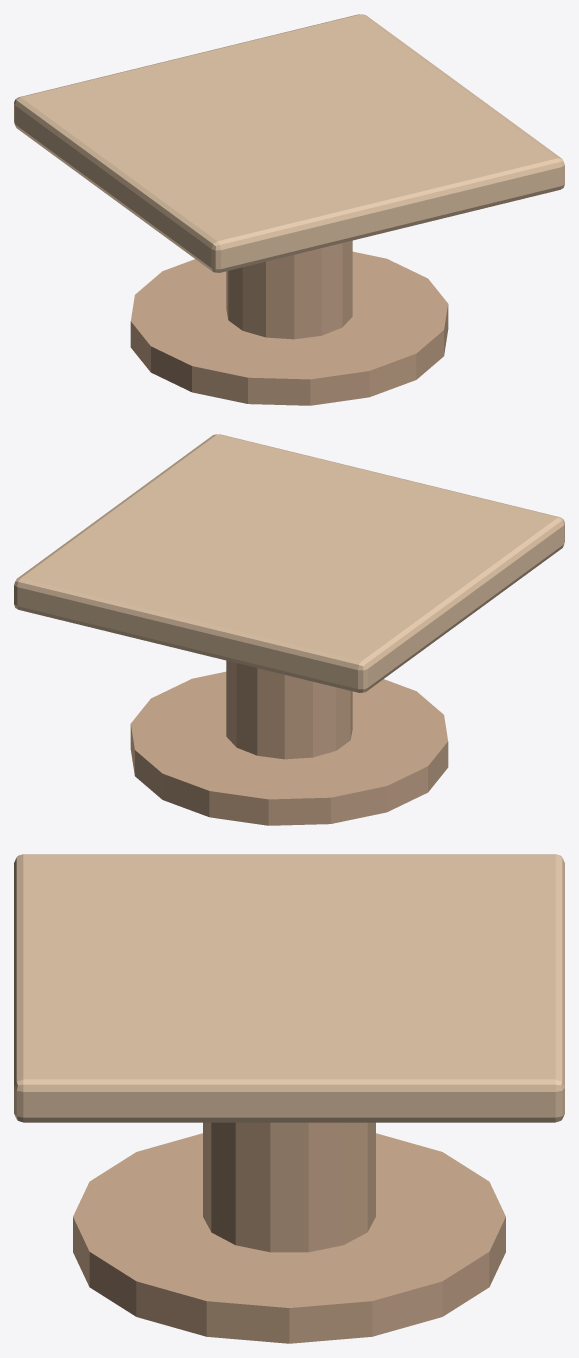
Rendered from kit_table.glb.
3 renders of one model, top to bottom at view 1: azimuth 30°, elevation 25°; view 2: azimuth 150°, elevation 25°; view 3: azimuth 270°, elevation 25°, orthographic. The views are drawn at different scales.
Parts seen in each view (by area): view 1: kit_table.001; view 2: kit_table.001; view 3: kit_table.001.
Part boxes in pixels (bbox=[...]): kit_table.001: bbox=[14, 14, 564, 405]; kit_table.001: bbox=[14, 434, 564, 825]; kit_table.001: bbox=[14, 854, 564, 1343].
Size of the model in its own units: 1.4 by 0.81 by 1.4.
